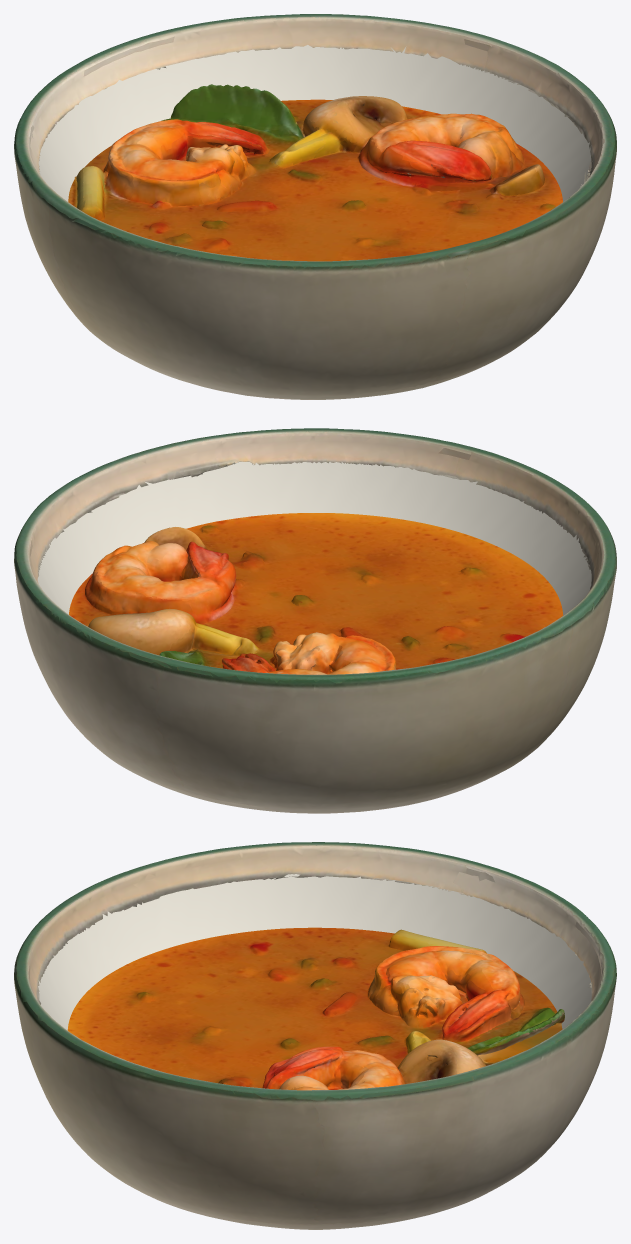
Rendered from tom-yum-2.glb.
The picture shows the model from 3 angles, top to bottom: view 1: azimuth 30°, elevation 25°; view 2: azimuth 150°, elevation 25°; view 3: azimuth 270°, elevation 25°; orthographic projection.
Parts seen in each view (by area): view 1: canonical/sourceCeramic, food/independent-stage-2, canonical/inner-bowl-completion; view 2: canonical/sourceCeramic, food/independent-stage-2, canonical/inner-bowl-completion; view 3: canonical/sourceCeramic, food/independent-stage-2, canonical/inner-bowl-completion.
Part boxes in pixels (x1,y1,x2,y2): canonical/sourceCeramic: (14,14,616,399); food/independent-stage-2: (68,84,562,261); canonical/inner-bowl-completion: (38,45,591,201); canonical/sourceCeramic: (14,428,616,813); food/independent-stage-2: (69,513,563,674); canonical/inner-bowl-completion: (37,462,591,615); canonical/sourceCeramic: (14,842,616,1229); food/independent-stage-2: (67,927,564,1090); canonical/inner-bowl-completion: (38,874,591,1030).
Bounding box in the file's own units: 2.61 × 0.8381 × 2.6.
Materials: 3 (2 with a texture image).
